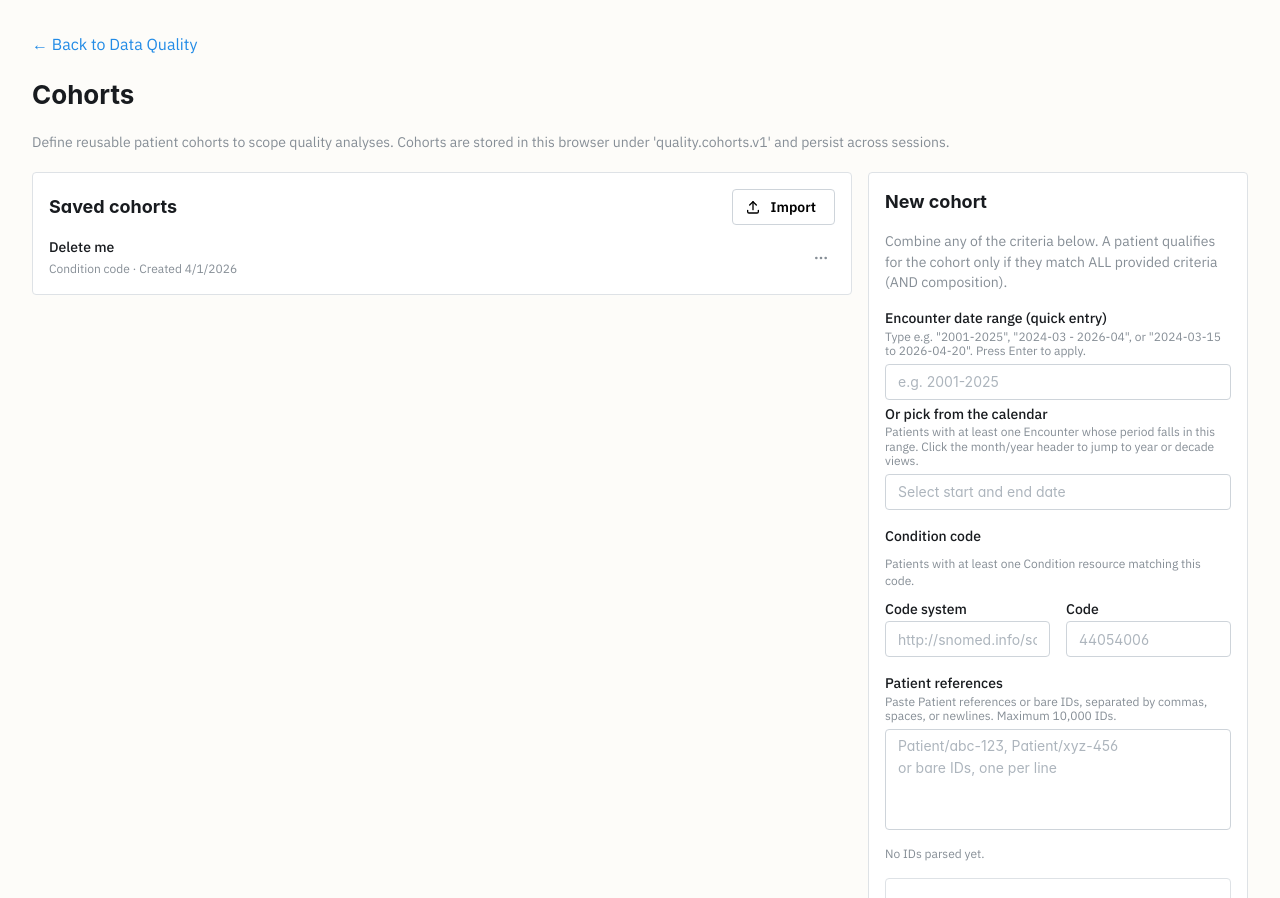
CohortsPage › Delete menu item opens DeleteCohortModal
Click the button named "actions for cohort \"Delete me\"" at (821,258), box [807, 244, 835, 272]
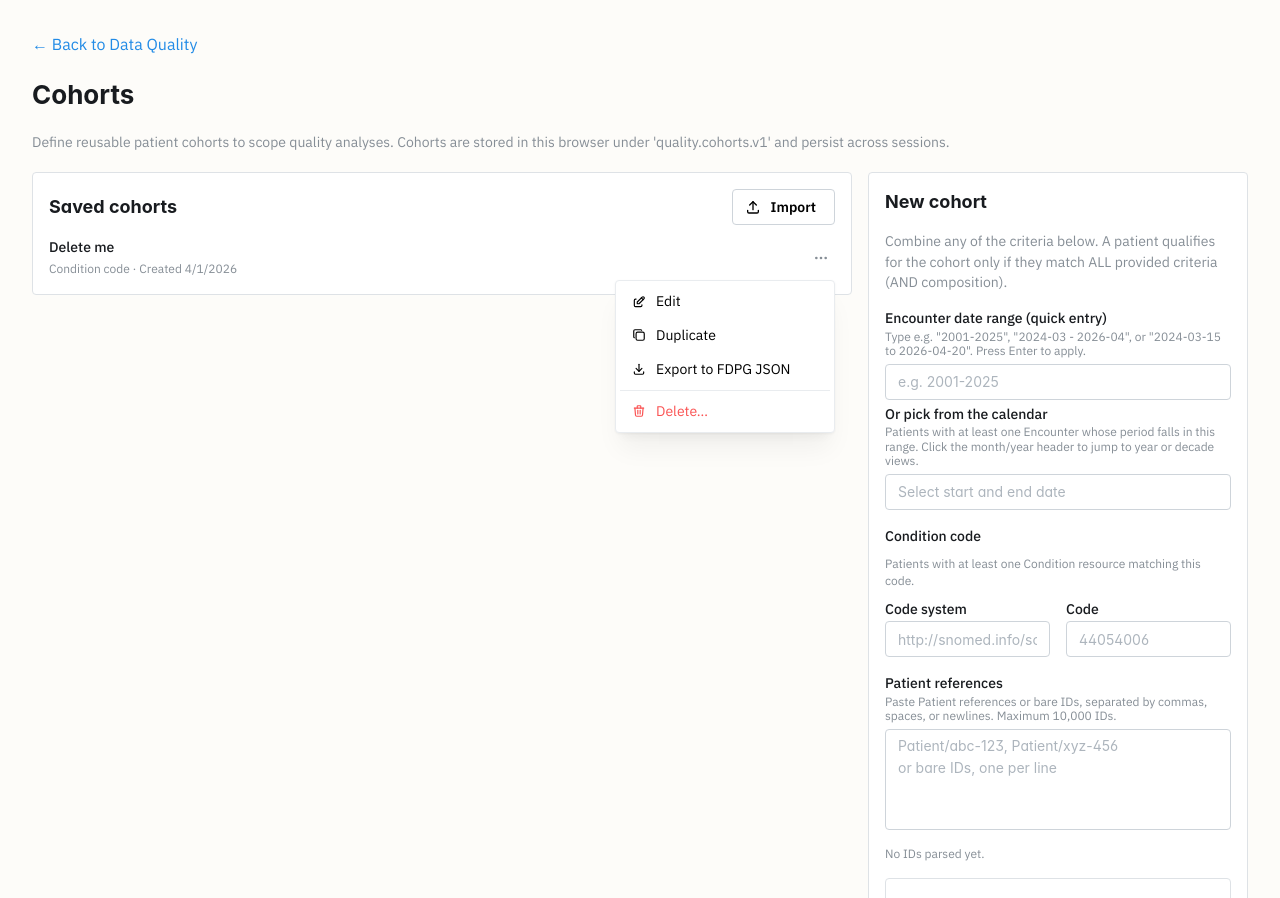
Click the menu item "Delete…" at (725,411), box [620, 395, 830, 428]
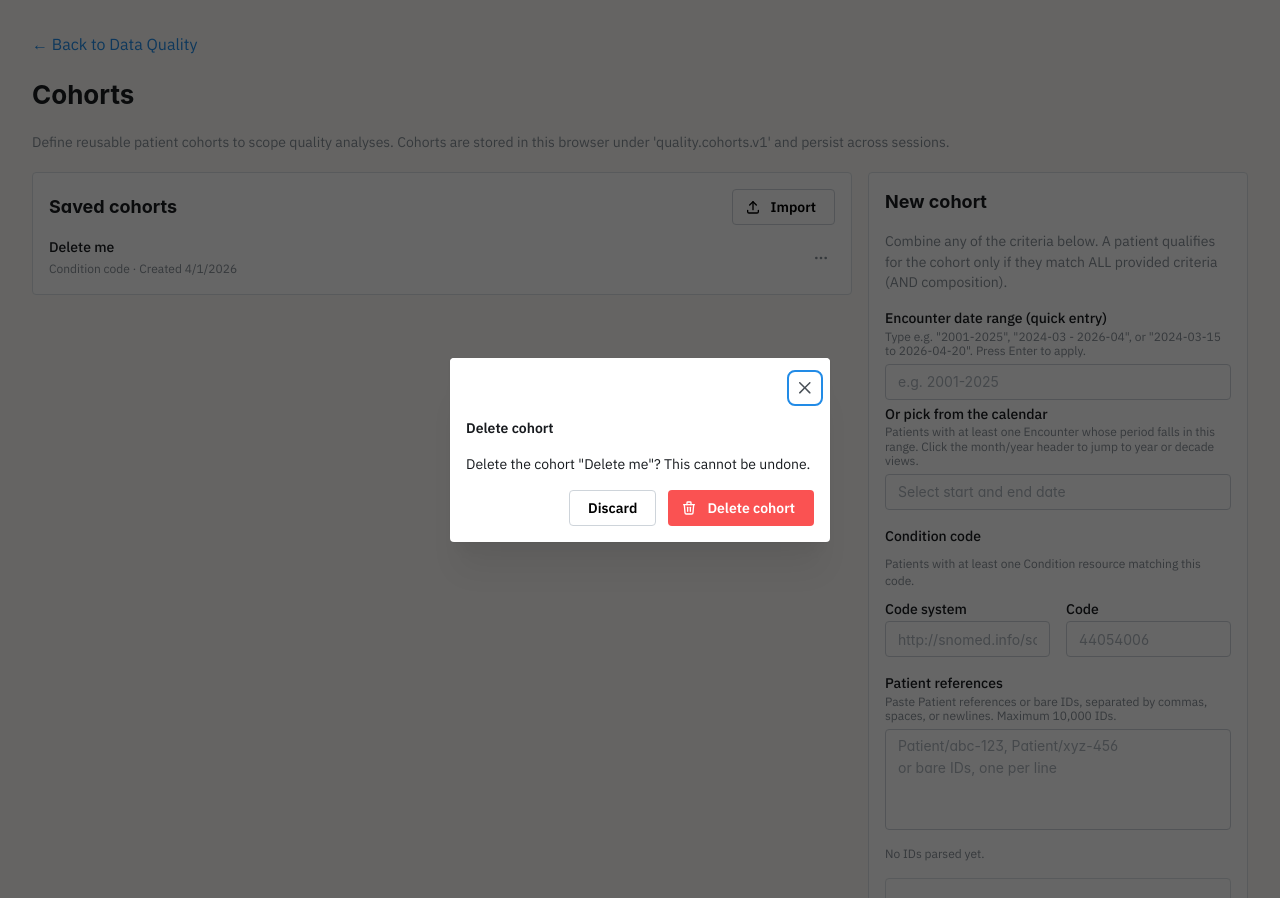
Result: the text "Delete cohort" is shown at [466, 419, 554, 437]
